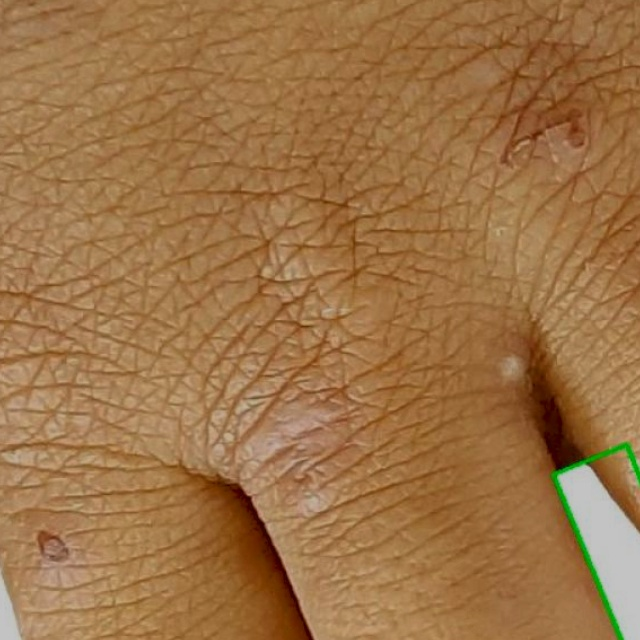Scabies: (552, 443, 639, 639)
